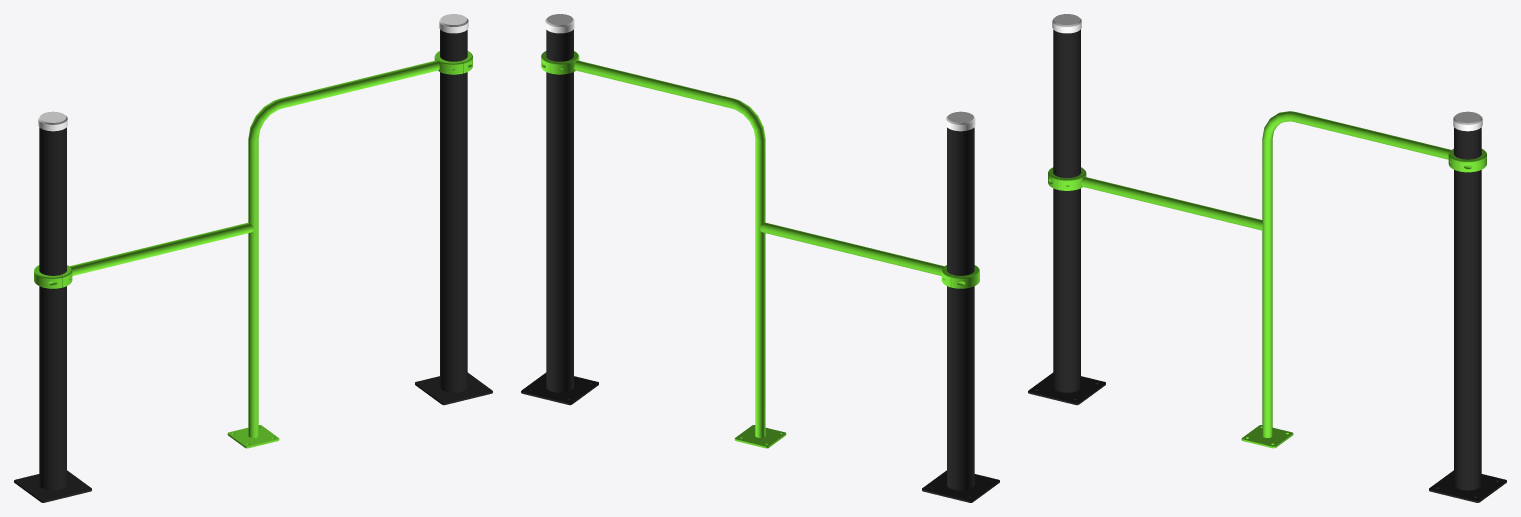
Rendered from alacsony_huzodzkodo_tolodzkodo.glb.
3 views of the same model, side by side, from view 1: azimuth 30°, elevation 25°; view 2: azimuth 150°, elevation 25°; view 3: azimuth 330°, elevation 25° (orthographic).
Visible parts, largest first — view 1: support_, support_.001, frame_Solid1; view 2: support_, support_.001, frame_Solid1; view 3: support_.001, support_, frame_Solid1.
Boxes of the visible parts, x1=… form: support_: x1=14, y1=127, x2=91, y2=502; support_.001: x1=415, y1=29, x2=492, y2=405; frame_Solid1: x1=34, y1=51, x2=472, y2=448; support_: x1=922, y1=127, x2=999, y2=502; support_.001: x1=521, y1=29, x2=598, y2=405; frame_Solid1: x1=541, y1=51, x2=979, y2=448; support_.001: x1=1429, y1=127, x2=1506, y2=502; support_: x1=1028, y1=29, x2=1105, y2=405; frame_Solid1: x1=1048, y1=111, x2=1486, y2=448.
Size of the model in its own units: 1.89 by 1.48 by 0.2119.
